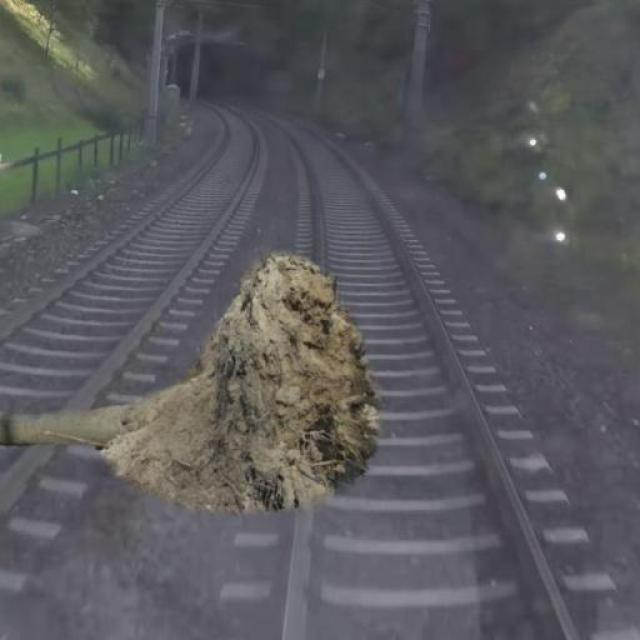Branches: (17, 369, 248, 459)
